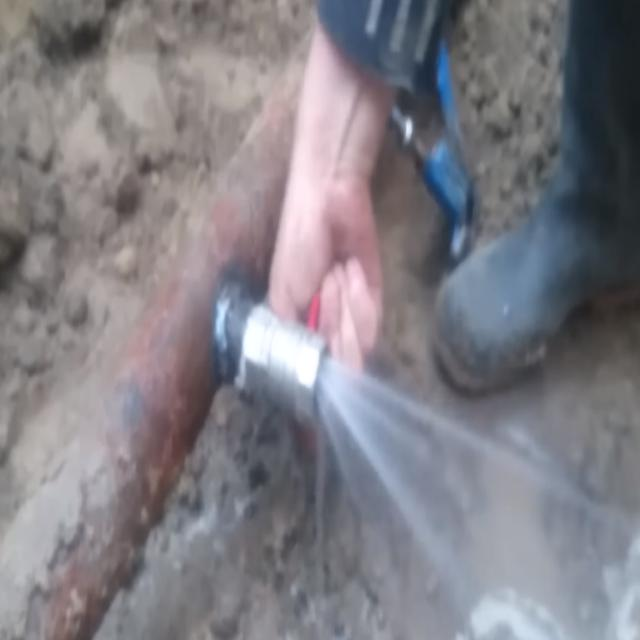leak: (316, 354, 640, 640)
